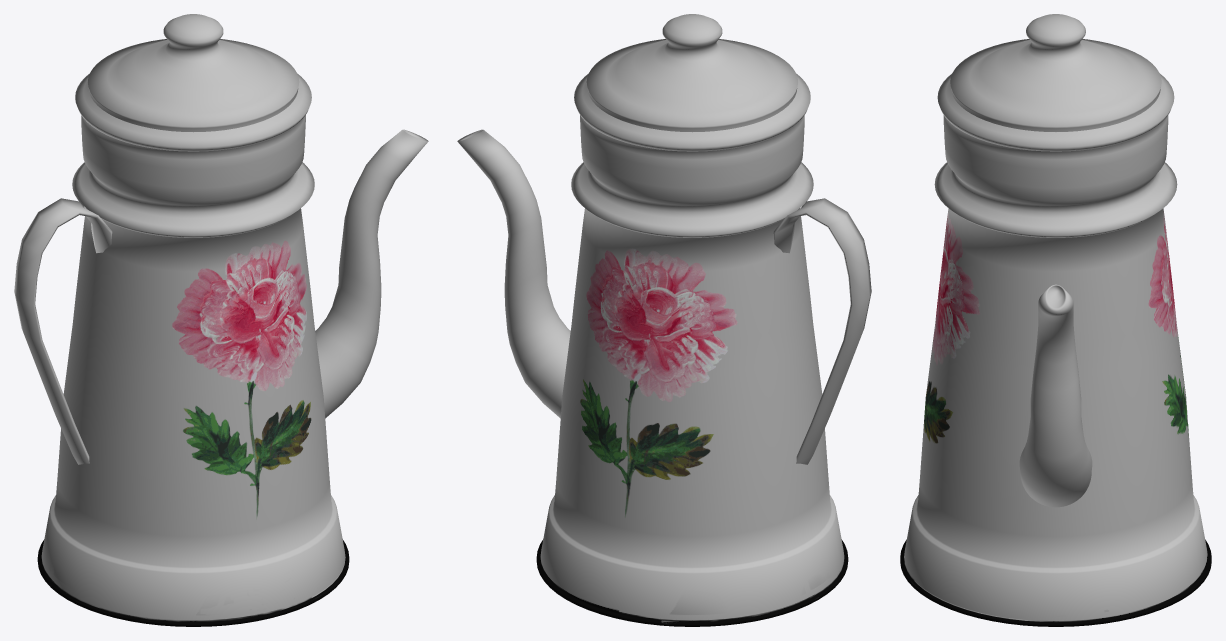
3 views of the same model, side by side, from view 1: azimuth 30°, elevation 25°; view 2: azimuth 150°, elevation 25°; view 3: azimuth 270°, elevation 25° (orthographic).
Visible parts, largest first — view 1: Circle; view 2: Circle; view 3: Circle.
Boxes of the visible parts, x1,y1,x2,y2 form: Circle: (14,14,428,626); Circle: (457,14,871,626); Circle: (900,14,1211,626).
Size of the model in its own units: 224 by 283 by 147.
1 material, 1 textured.
